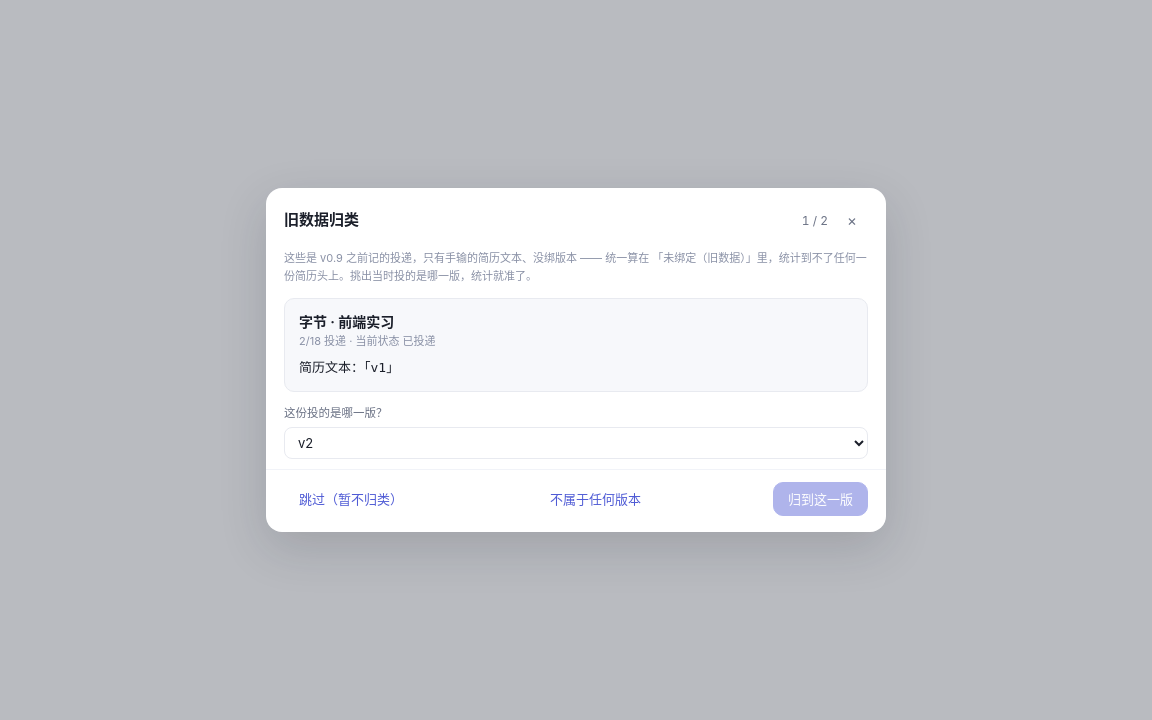
Test case: LegacyBindPanel（jsdom） › ★ 选了版本 → 调 bindResumeVersion（唯一写库通道），并前进到下一条
Select "v2" in the dropdown named "选择这一条投递对应的简历版本". click: [576, 443]
box: [284,427,868,459]
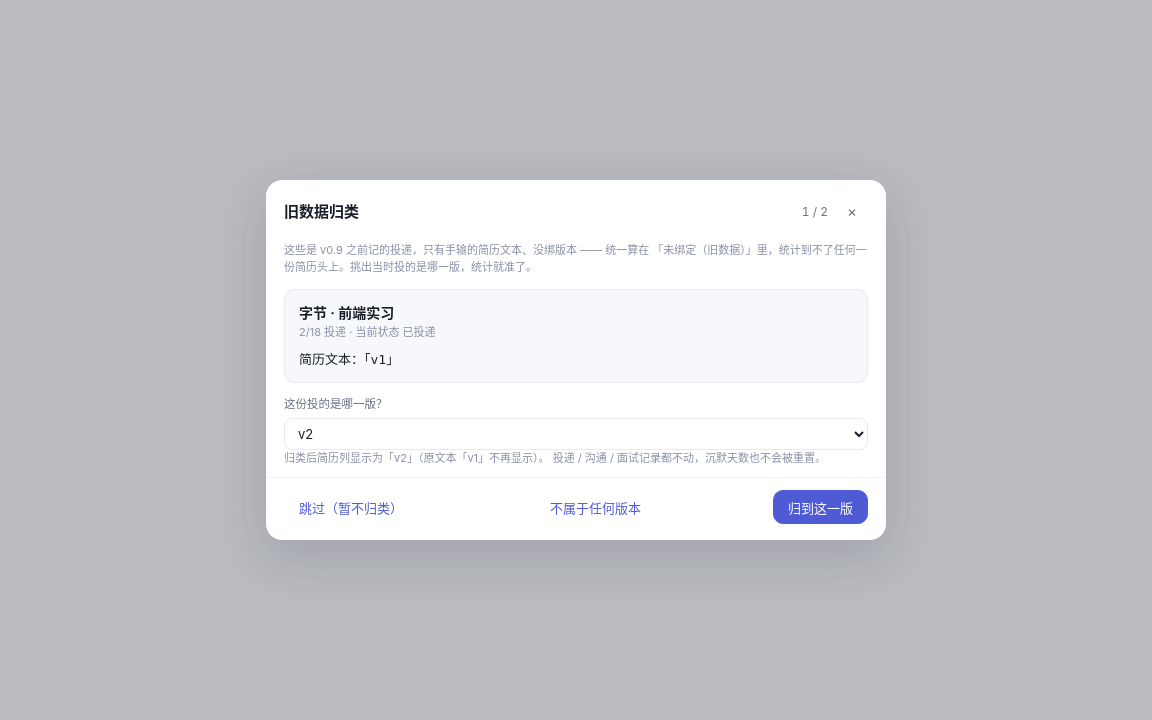
Click the button "归到这一版". click: [820, 508]
box: [773,490,868,524]
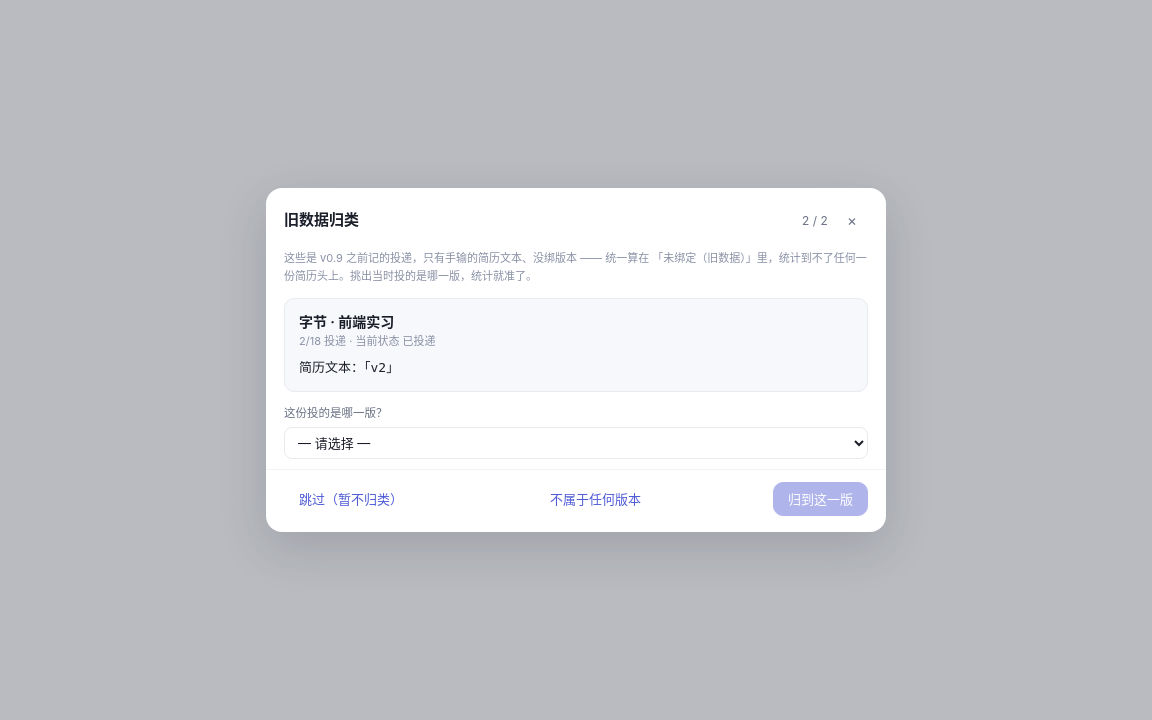
Now the text "2 / 2" is shown, box [802,211,828,230]
